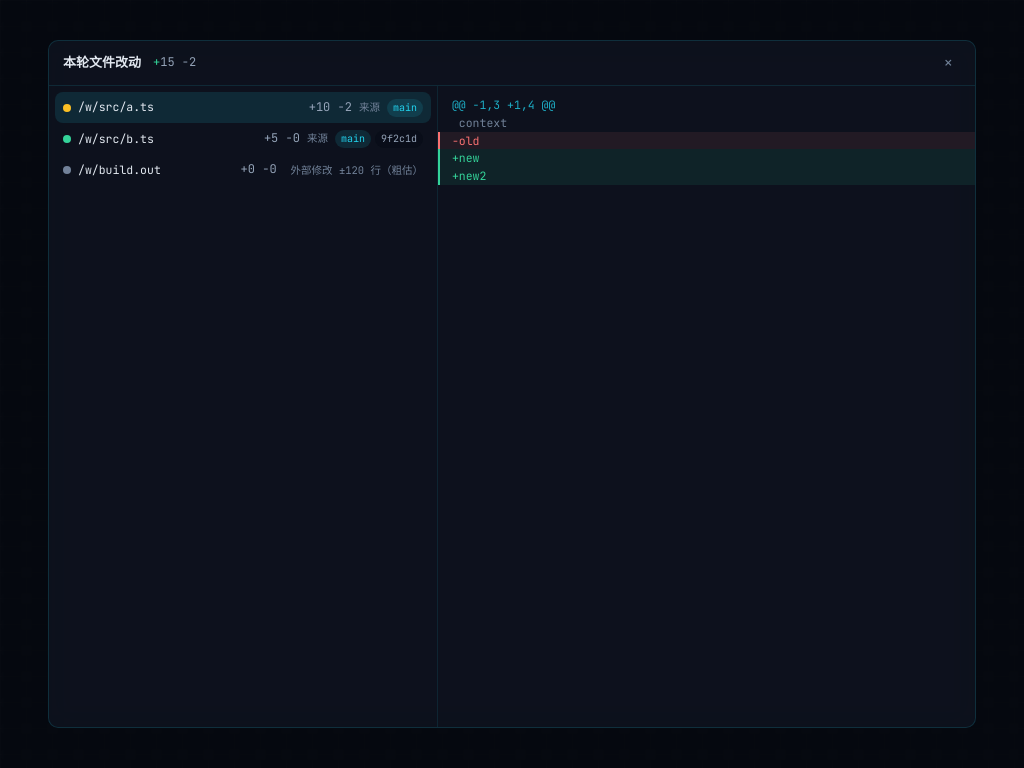
Test case: DiffOverlay 文件行与 diff 渲染 › 默认选首文件渲染 unified diff：+行 add 类 / −行 del 类 / hunk 头类；点击行切换
Expected: the number of elements with class "dl-add" is 2, [438, 149, 975, 167]; [438, 167, 975, 185]
Expected: the number of elements with class "dl-del" is 1, [438, 132, 975, 149]
# 点击第二个文件 → 切换到 added 文件的 diff（+entire/+file）
Click the button with class "diff-file" that starts with "/w/src/b.ts" at (116, 138), box [63, 130, 423, 148]
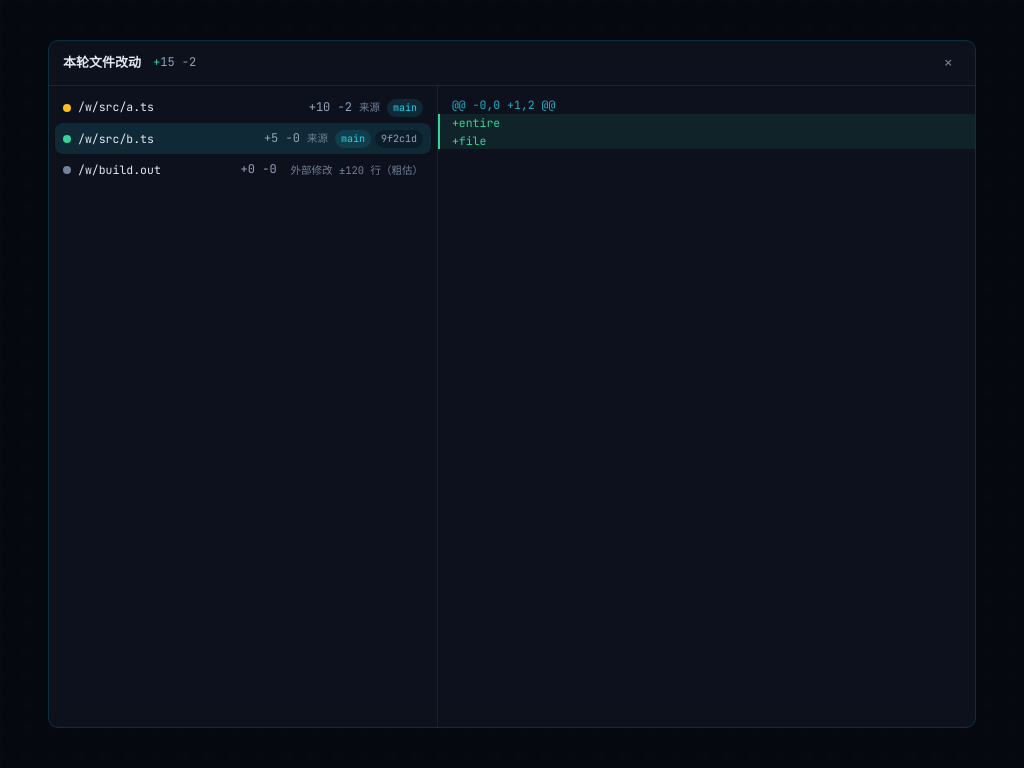
Expected: the element with class "diff-view" shows "entire", [452, 115, 500, 130]
